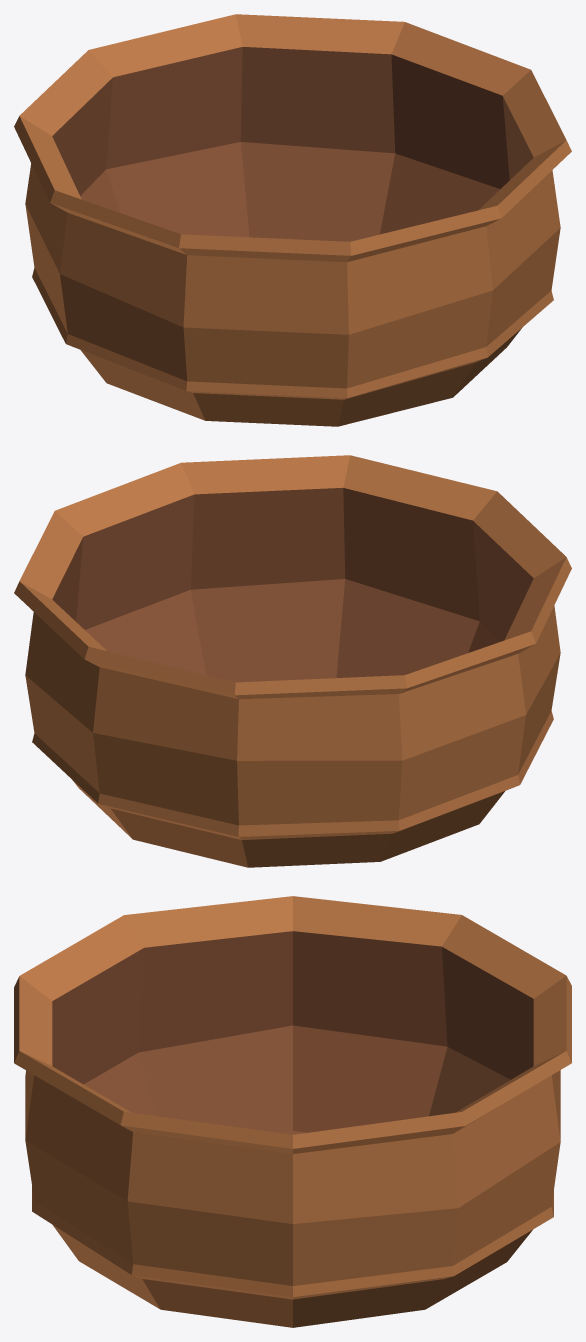
The model's file is SM_Prop_Copper_Bowl_Large_01.glb.
3 renders of one model, top to bottom at view 1: azimuth 30°, elevation 25°; view 2: azimuth 150°, elevation 25°; view 3: azimuth 270°, elevation 25°, orthographic. The views are drawn at different scales.
Visible parts, largest first — view 1: SM_Prop_Copper_Bowl_Large_01; view 2: SM_Prop_Copper_Bowl_Large_01; view 3: SM_Prop_Copper_Bowl_Large_01.
Part boxes in pixels (left/top/right/bottom): SM_Prop_Copper_Bowl_Large_01: left=14, top=14, right=571, bottom=426; SM_Prop_Copper_Bowl_Large_01: left=14, top=455, right=571, bottom=867; SM_Prop_Copper_Bowl_Large_01: left=14, top=896, right=571, bottom=1327.
Size of the model in its own units: 1.36 by 0.5994 by 1.29.
1 material, 1 textured.
